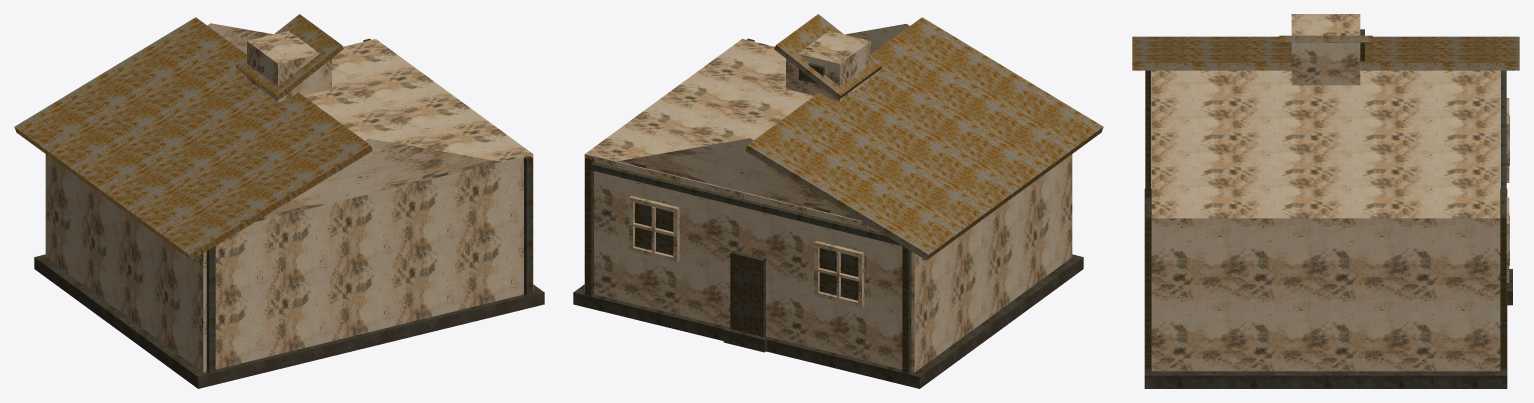
File: village_hall.glb
The picture shows the model from 3 angles, left to right: view 1: azimuth 30°, elevation 25°; view 2: azimuth 150°, elevation 25°; view 3: azimuth 270°, elevation 25°; orthographic projection. The views are drawn at different scales.
Size of the model in its own units: 11.38 by 7.52 by 9.55.
4 materials, 4 textured.
